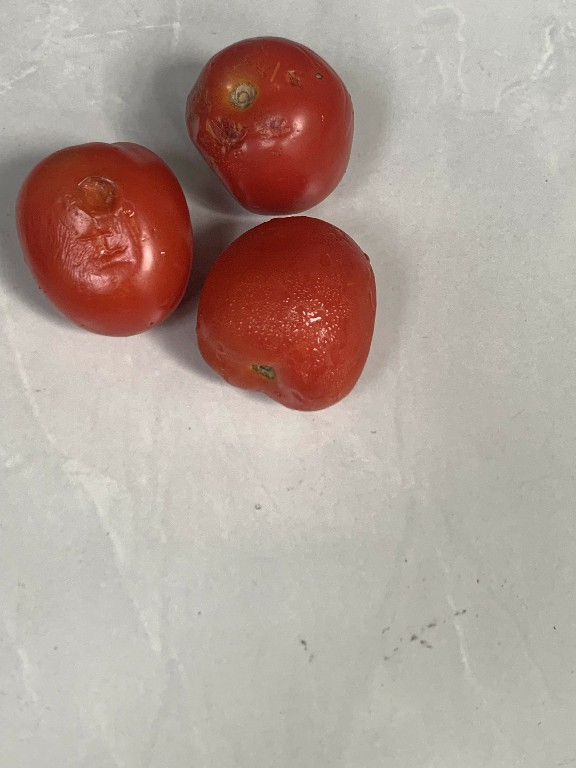NG: (17, 140, 193, 349), (185, 29, 376, 212)
OK: (191, 211, 388, 419)
